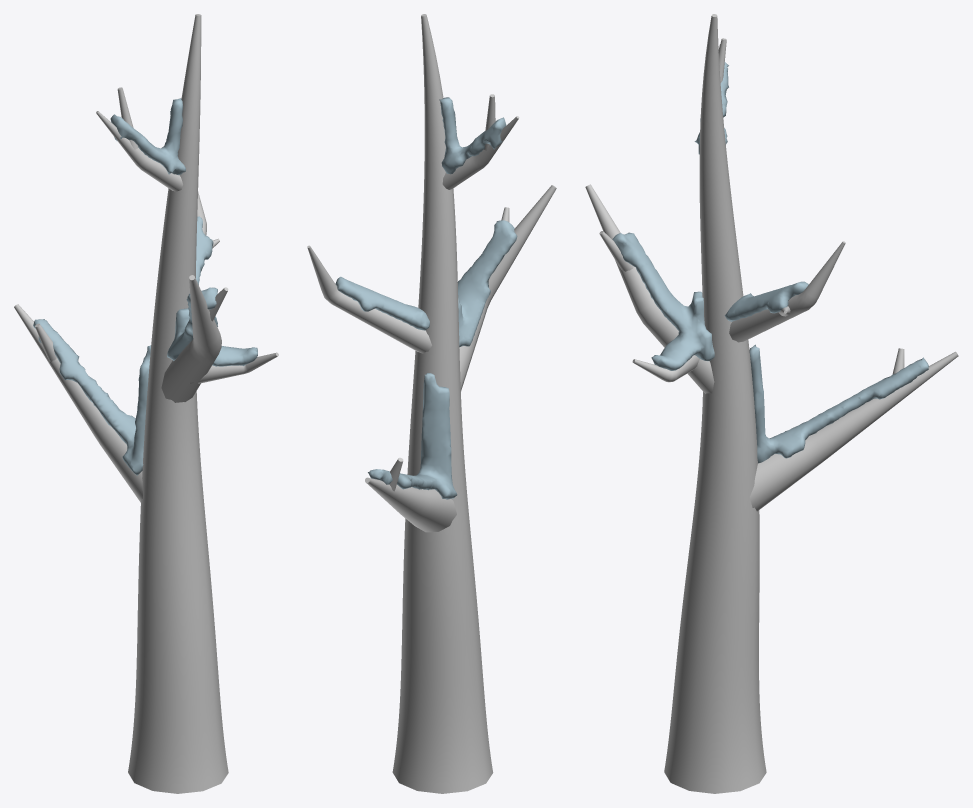
The model's file is BranchTree_3.obj.
The picture shows the model from 3 angles, left to right: view 1: azimuth 30°, elevation 25°; view 2: azimuth 150°, elevation 25°; view 3: azimuth 270°, elevation 25°; orthographic projection.
Visible parts, largest first — view 1: Branch_Tree__3, Snow_on_Tre_Branch_3; view 2: Branch_Tree__3, Snow_on_Tre_Branch_3; view 3: Branch_Tree__3, Snow_on_Tre_Branch_3.
Boxes of the visible parts, x1,y1,x2,y2 form: Branch_Tree__3: (14,14,278,793); Snow_on_Tre_Branch_3: (33,98,257,475); Branch_Tree__3: (307,14,556,793); Snow_on_Tre_Branch_3: (335,97,517,499); Branch_Tree__3: (585,14,958,793); Snow_on_Tre_Branch_3: (612,62,928,463).
Size of the model in its own units: 0.2145 by 0.997 by 0.44.
